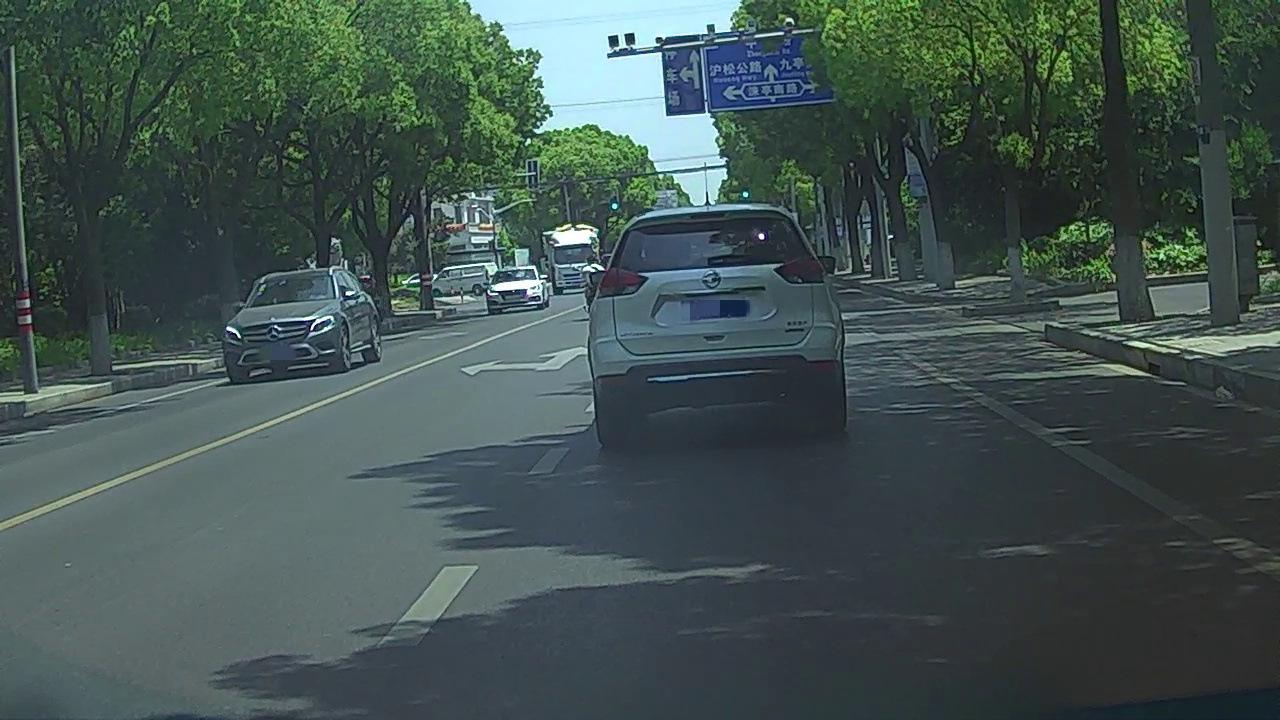traffic_light: (610, 191, 618, 211), (741, 189, 749, 199)
